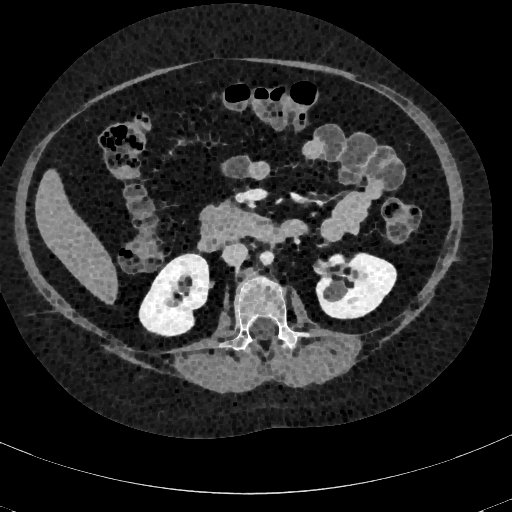Lesion: (321, 277, 350, 304)
